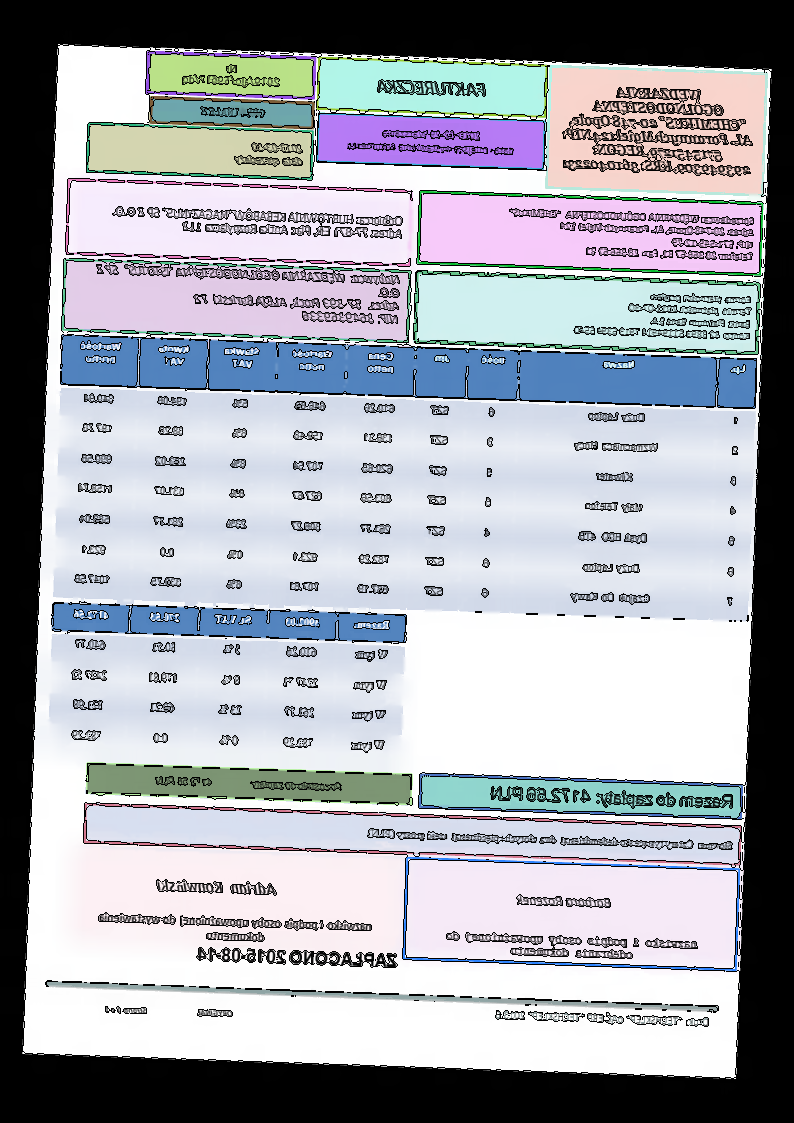Table: (51, 333, 760, 625), (45, 600, 409, 767)
TextBox: (92, 260, 404, 327), (557, 83, 757, 180), (505, 205, 758, 266), (109, 202, 406, 243), (366, 825, 735, 855), (93, 908, 375, 947), (574, 286, 753, 342), (443, 926, 699, 964), (488, 781, 735, 813), (345, 122, 518, 159), (197, 942, 401, 971), (491, 1005, 713, 1030), (154, 772, 346, 796), (179, 60, 282, 91), (375, 75, 489, 99), (155, 877, 280, 898), (102, 1001, 235, 1020), (232, 137, 306, 171), (512, 891, 615, 911), (197, 102, 269, 120)
